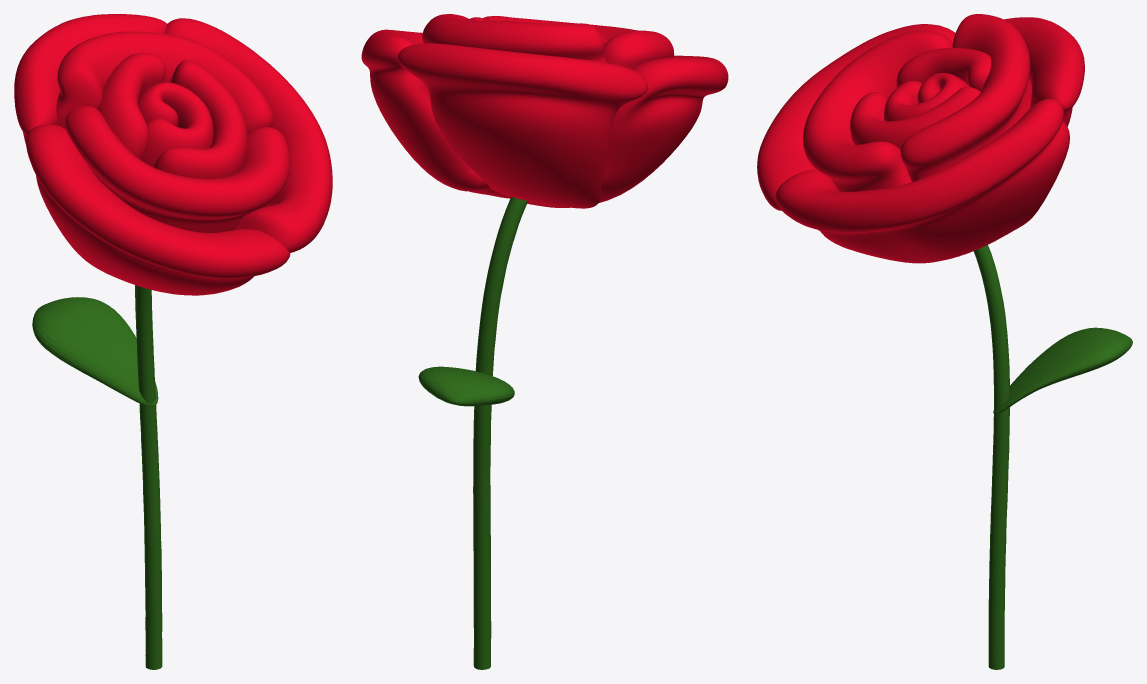
3 renders of one model, left to right at view 1: azimuth 30°, elevation 25°; view 2: azimuth 150°, elevation 25°; view 3: azimuth 270°, elevation 25°, orthographic. The views are drawn at different scales.
Visible parts, largest first — view 1: f05; view 2: f05; view 3: f05.
Part boxes in pixels (bbox=[...]): f05: bbox=[14, 14, 332, 669]; f05: bbox=[361, 14, 728, 669]; f05: bbox=[757, 14, 1132, 669].
Size of the model in its own units: 0.3378 by 0.7004 by 0.3886.
